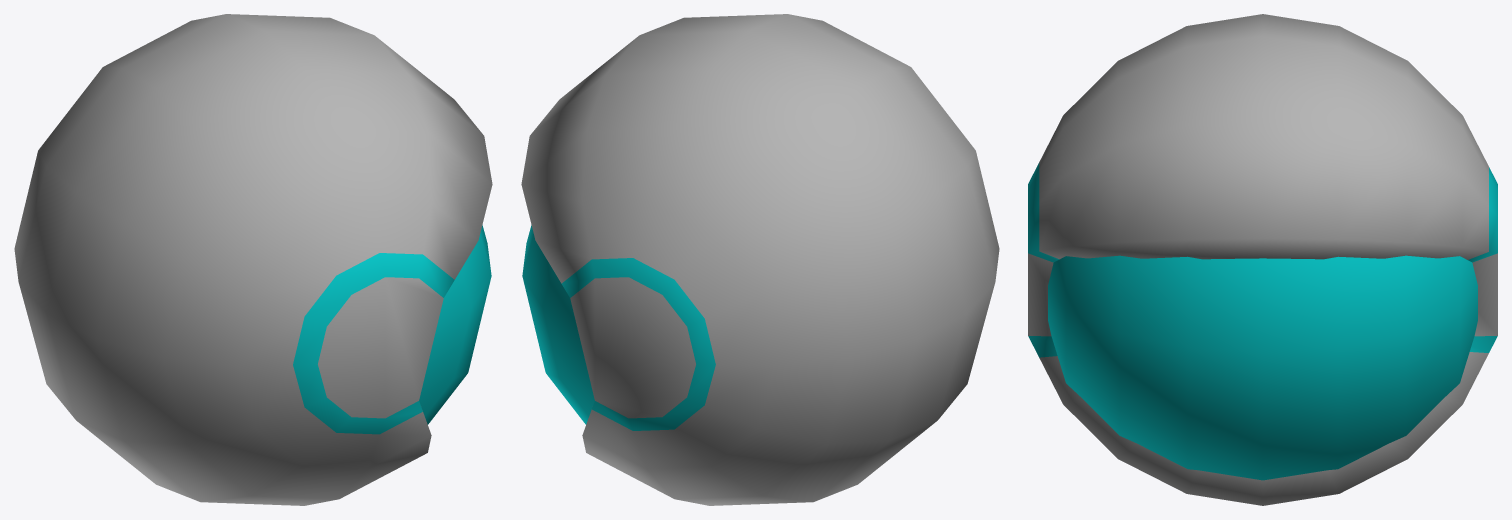
File: player_sphere04.fbx
3 views of the same model, side by side, from view 1: azimuth 30°, elevation 25°; view 2: azimuth 150°, elevation 25°; view 3: azimuth 270°, elevation 25° (orthographic). The views are drawn at different scales.
Parts seen in each view (by area): view 1: Sphere; view 2: Sphere; view 3: Sphere.
Part boxes in pixels (bbox=[...]): Sphere: bbox=[14, 14, 492, 505]; Sphere: bbox=[521, 14, 999, 505]; Sphere: bbox=[1028, 14, 1497, 505].
Size of the model in its own units: 94.47 by 100 by 95.11.
